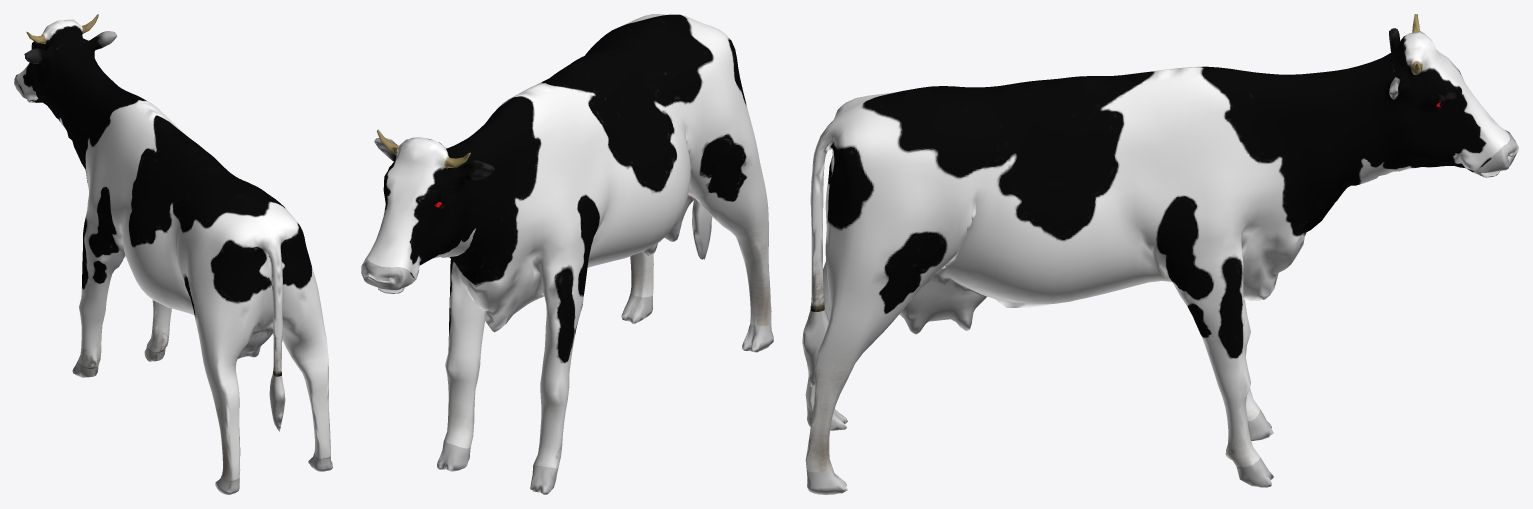
Rendered from Cow.fbx.
The picture shows the model from 3 angles, left to right: view 1: azimuth 30°, elevation 25°; view 2: azimuth 150°, elevation 25°; view 3: azimuth 270°, elevation 25°; orthographic projection. The views are drawn at different scales.
Visible parts, largest first — view 1: Cow; view 2: Cow; view 3: Cow.
Part boxes in pixels (x1,y1,x2,y2): Cow: [14, 14, 332, 494]; Cow: [361, 14, 773, 494]; Cow: [802, 14, 1518, 494].
Size of the model in its own units: 0.5274 by 1.3 by 2.
